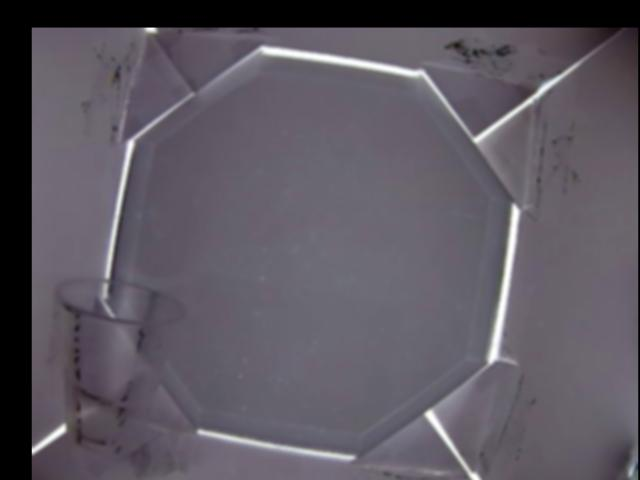Cup: (54, 278, 188, 448)
